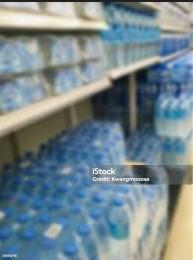bottle: (163, 33, 192, 53)
